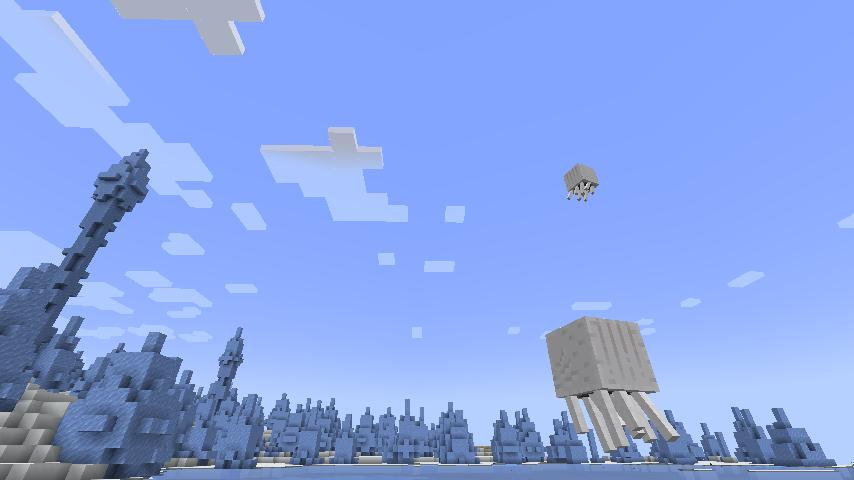ghast: (544, 314, 679, 456), (562, 163, 599, 204)
